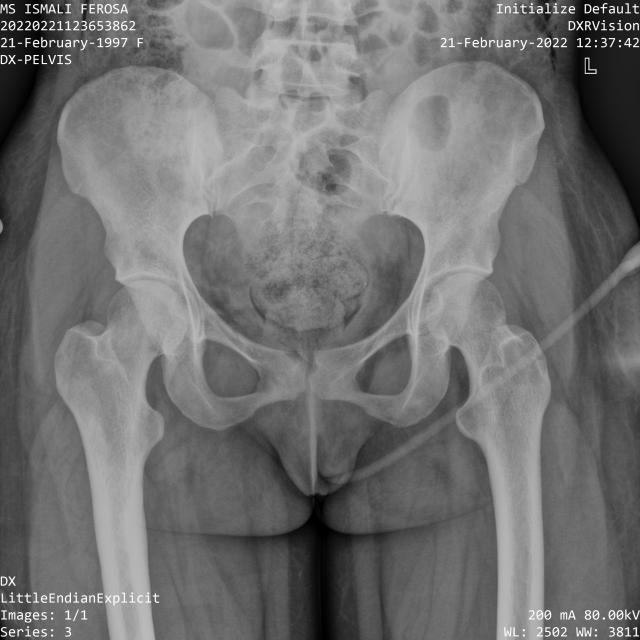normal-left: (426, 273, 551, 582)
normal-right: (54, 280, 187, 590)
